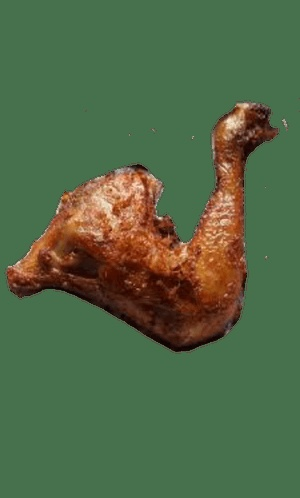ayam_goreng: (5, 90, 284, 338)
